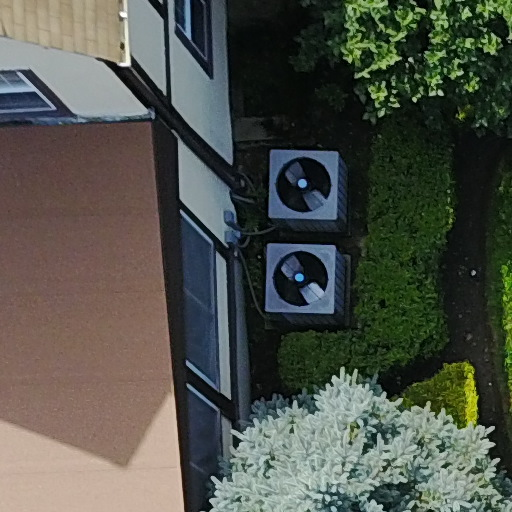air conditioner: (254, 140, 371, 232), (259, 238, 356, 330)
